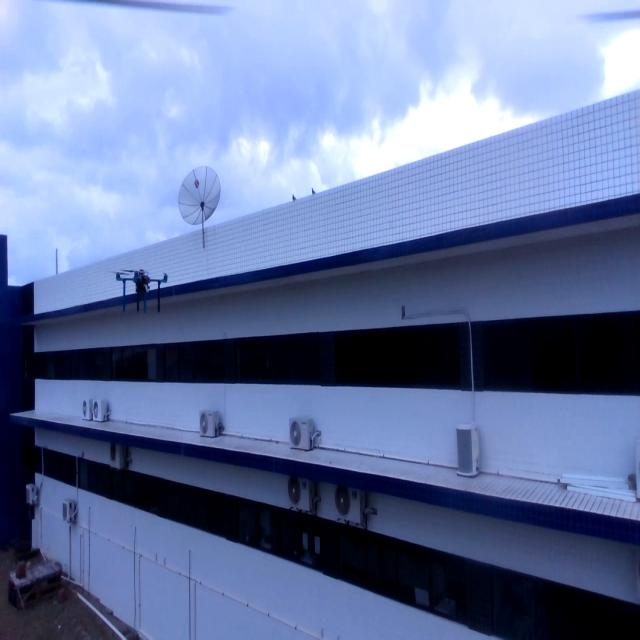-uav-: (107, 250, 174, 324)
